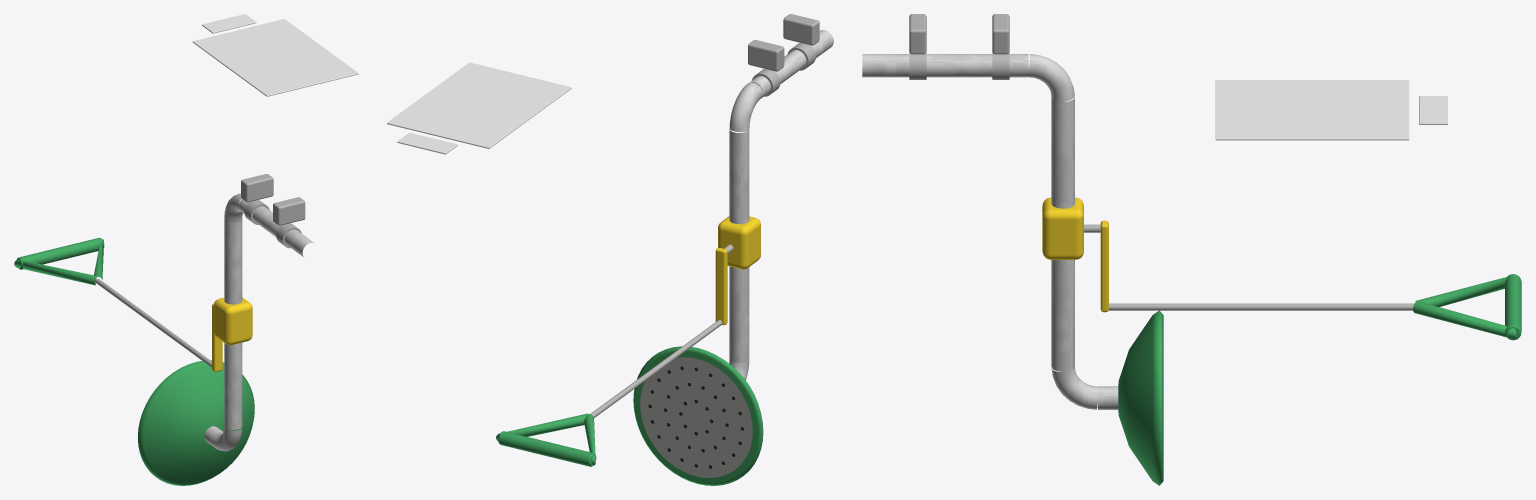
File: AICOR_Lab__CulturePrep__PR_Shower.glb
3 views of the same model, side by side, from view 1: azimuth 30°, elevation 25°; view 2: azimuth 150°, elevation 25°; view 3: azimuth 270°, elevation 25° (orthographic). The views are drawn at different scales.
Parts seen in each view (by area): view 1: /World/AICOR_Lab/CulturePrep/PR_Shower/Visual/PlasticGreen, /World/AICOR_Lab/CulturePrep/PR_Shower/Visual/PlasticWhite, /World/AICOR_Lab/CulturePrep/PR_Shower/Visual/Galvanized, /World/AICOR_Lab/CulturePrep/PR_Shower/Visual/StainlessSatin, /World/AICOR_Lab/CulturePrep/PR_Shower/Visual/PlasticYellow; view 2: /World/AICOR_Lab/CulturePrep/PR_Shower/Visual/StainlessSatin, /World/AICOR_Lab/CulturePrep/PR_Shower/Visual/PlasticWhite, /World/AICOR_Lab/CulturePrep/PR_Shower/Visual/Galvanized, /World/AICOR_Lab/CulturePrep/PR_Shower/Visual/PlasticGreen, /World/AICOR_Lab/CulturePrep/PR_Shower/Visual/PlasticYellow, /World/AICOR_Lab/CulturePrep/PR_Shower/Visual/PlasticBlack; view 3: /World/AICOR_Lab/CulturePrep/PR_Shower/Visual/PlasticWhite, /World/AICOR_Lab/CulturePrep/PR_Shower/Visual/Galvanized, /World/AICOR_Lab/CulturePrep/PR_Shower/Visual/PlasticGreen, /World/AICOR_Lab/CulturePrep/PR_Shower/Visual/StainlessSatin, /World/AICOR_Lab/CulturePrep/PR_Shower/Visual/PlasticYellow.
Part boxes in pixels (x1,y1,x2,y2): /World/AICOR_Lab/CulturePrep/PR_Shower/Visual/PlasticGreen: (14,237,254,485); /World/AICOR_Lab/CulturePrep/PR_Shower/Visual/PlasticWhite: (192,14,358,96); /World/AICOR_Lab/CulturePrep/PR_Shower/Visual/Galvanized: (204,193,314,451); /World/AICOR_Lab/CulturePrep/PR_Shower/Visual/StainlessSatin: (95,174,305,367); /World/AICOR_Lab/CulturePrep/PR_Shower/Visual/PlasticYellow: (212,297,252,371); /World/AICOR_Lab/CulturePrep/PR_Shower/Visual/StainlessSatin: (590,14,819,477); /World/AICOR_Lab/CulturePrep/PR_Shower/Visual/PlasticWhite: (387,62,571,154); /World/AICOR_Lab/CulturePrep/PR_Shower/Visual/Galvanized: (729,30,833,380); /World/AICOR_Lab/CulturePrep/PR_Shower/Visual/PlasticGreen: (496,346,763,485); /World/AICOR_Lab/CulturePrep/PR_Shower/Visual/PlasticYellow: (715,216,760,325); /World/AICOR_Lab/CulturePrep/PR_Shower/Visual/PlasticBlack: (648,366,743,468); /World/AICOR_Lab/CulturePrep/PR_Shower/Visual/PlasticWhite: (1215,80,1447,140); /World/AICOR_Lab/CulturePrep/PR_Shower/Visual/Galvanized: (862,54,1118,409); /World/AICOR_Lab/CulturePrep/PR_Shower/Visual/PlasticGreen: (1118,274,1521,485); /World/AICOR_Lab/CulturePrep/PR_Shower/Visual/StainlessSatin: (909,14,1413,310); /World/AICOR_Lab/CulturePrep/PR_Shower/Visual/PlasticYellow: (1042,197,1108,312).
Size of the model in its own units: 0.527 by 0.727 by 0.952.
8 materials, 3 textured.
